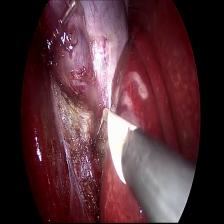Hook: (91, 105, 134, 178)
